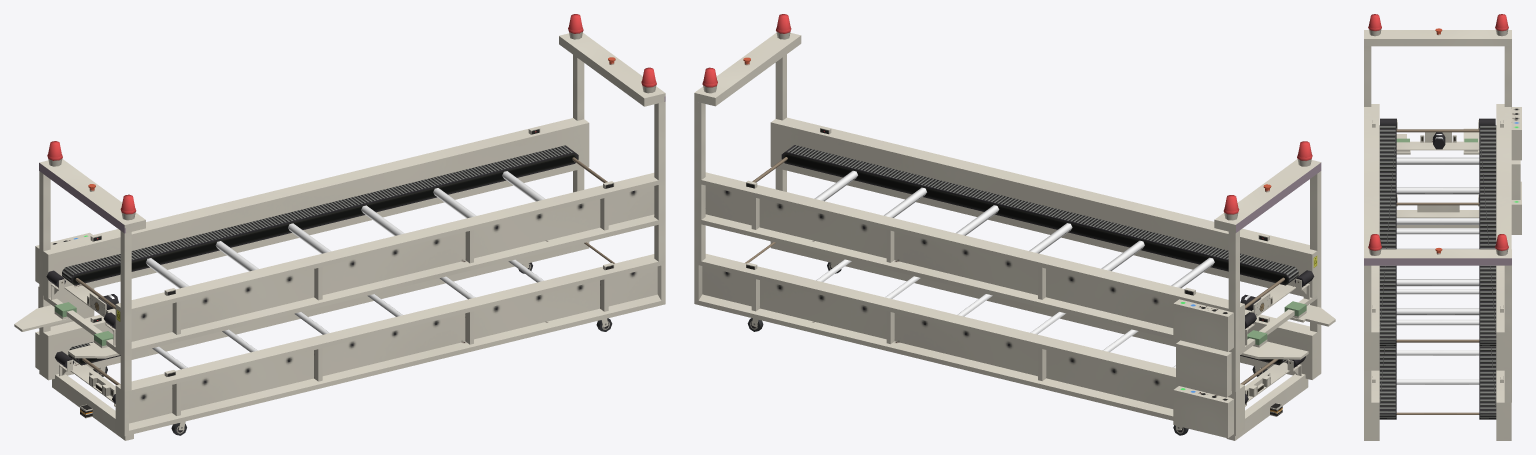
File: yunshu03.FBX
3 renders of one model, left to right at view 1: azimuth 30°, elevation 25°; view 2: azimuth 150°, elevation 25°; view 3: azimuth 270°, elevation 25°, orthographic. The views are drawn at different scales.
Parts seen in each view (by area): view 1: YF_Model_yunshu03; view 2: YF_Model_yunshu03; view 3: YF_Model_yunshu03.
Boxes of the visible parts, x1,y1,x2,y2 form: YF_Model_yunshu03: (14,14,665,440); YF_Model_yunshu03: (694,14,1335,440); YF_Model_yunshu03: (1364,14,1521,440).
Bounding box in the file's own units: 415 × 168 × 112.
